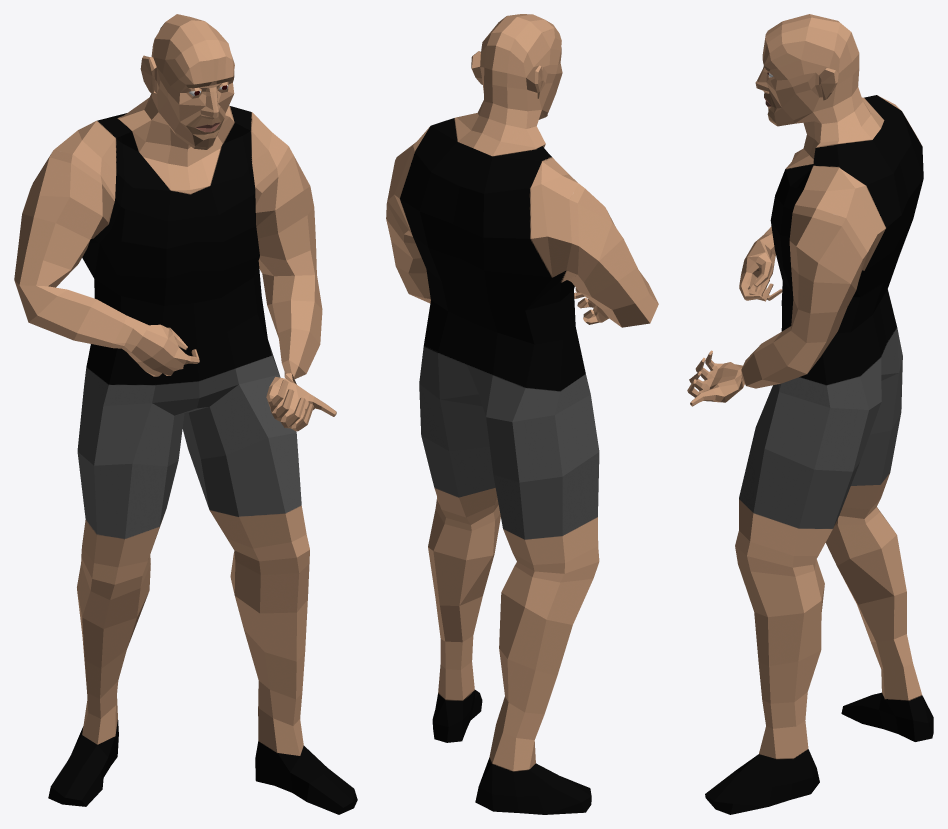
The model's file is PlayerIdle(218).obj.
3 views of the same model, side by side, from view 1: azimuth 30°, elevation 25°; view 2: azimuth 150°, elevation 25°; view 3: azimuth 270°, elevation 25° (orthographic). The views are drawn at different scales.
Visible parts, largest first — view 1: Plane002; view 2: Plane002; view 3: Plane002.
Part boxes in pixels (box(x1,y1,x2,y2)): Plane002: box(14, 14, 357, 814); Plane002: box(386, 14, 658, 814); Plane002: box(687, 14, 933, 814).
Size of the model in its own units: 676 by 1801 by 543.
